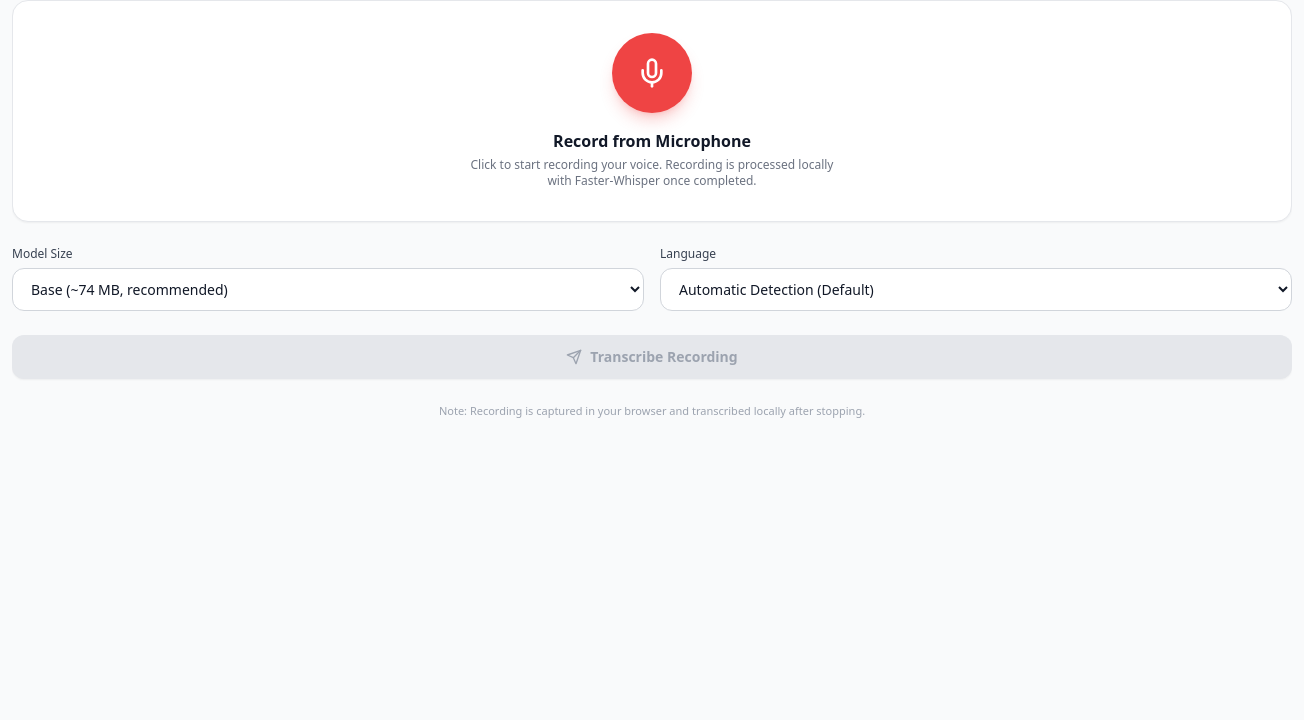
it: AudioRecorder Component › displays error if microphone access is not available
The width and height of the screenshot is (1304, 720).
What coordinates should you click on to do the following:
click the 1st button
I would click on:
 (652, 73)
Its box is [612, 33, 692, 113].
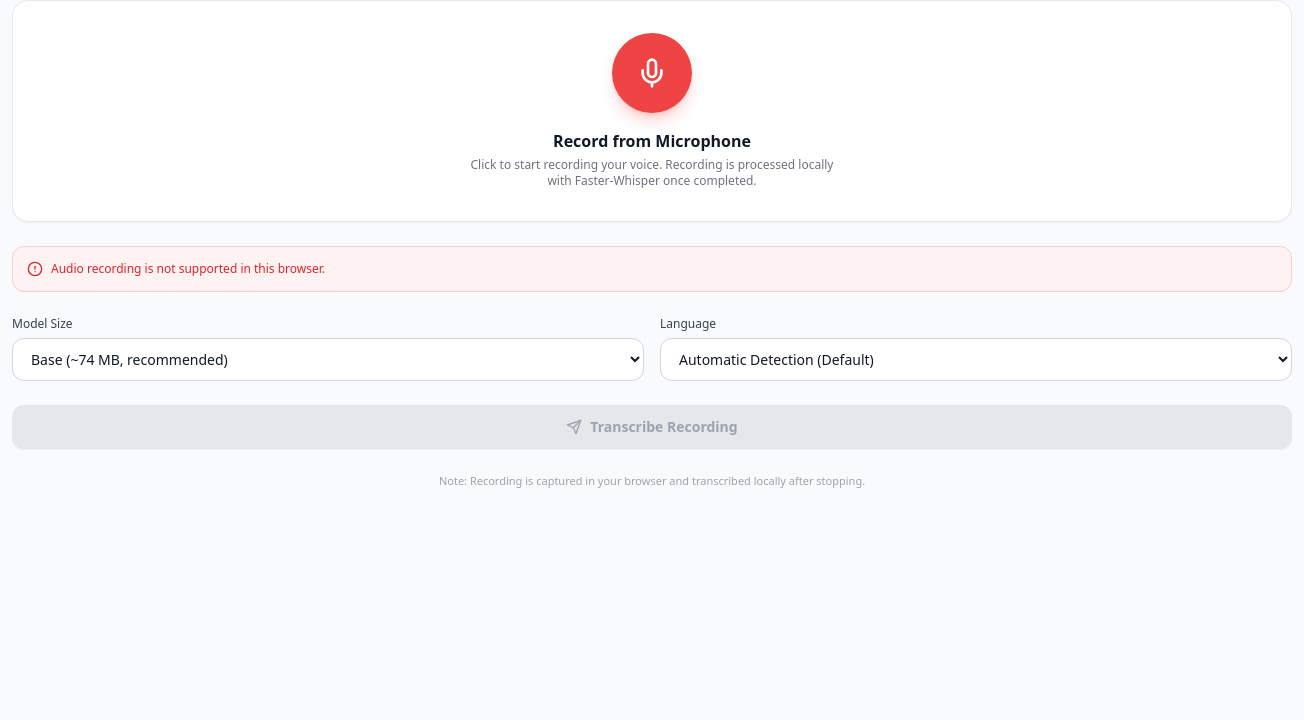
Expected: the text "Audio recording is not supported in this browser." is shown, [51, 261, 325, 277]
